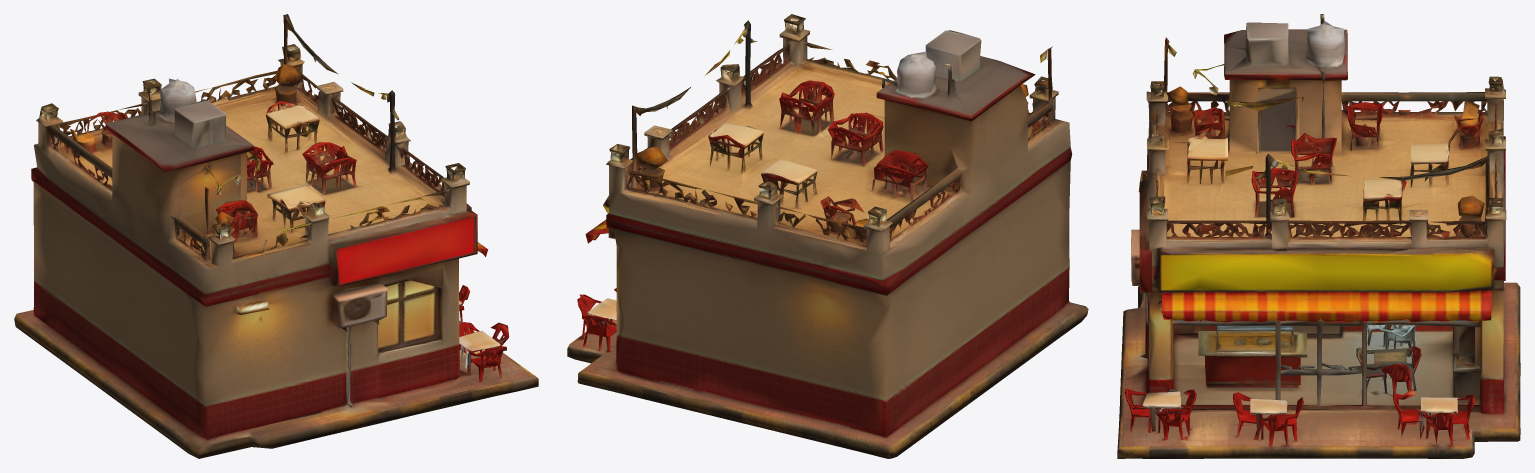
File: street_restaurant.glb
The picture shows the model from 3 angles, left to right: view 1: azimuth 30°, elevation 25°; view 2: azimuth 150°, elevation 25°; view 3: azimuth 270°, elevation 25°; orthographic projection. The views are drawn at different scales.
Parts seen in each view (by area): view 1: tripo_node_11581687-4906-4dfa-b832-f209f368685d; view 2: tripo_node_11581687-4906-4dfa-b832-f209f368685d; view 3: tripo_node_11581687-4906-4dfa-b832-f209f368685d.
Boxes of the visible parts, x1=… form: tripo_node_11581687-4906-4dfa-b832-f209f368685d: x1=14, y1=14, x2=538, y2=458; tripo_node_11581687-4906-4dfa-b832-f209f368685d: x1=567, y1=14, x2=1088, y2=458; tripo_node_11581687-4906-4dfa-b832-f209f368685d: x1=1117, y1=14, x2=1520, y2=458.
Size of the model in its own units: 0.9896 by 0.8552 by 1.
1 material, 1 textured.
